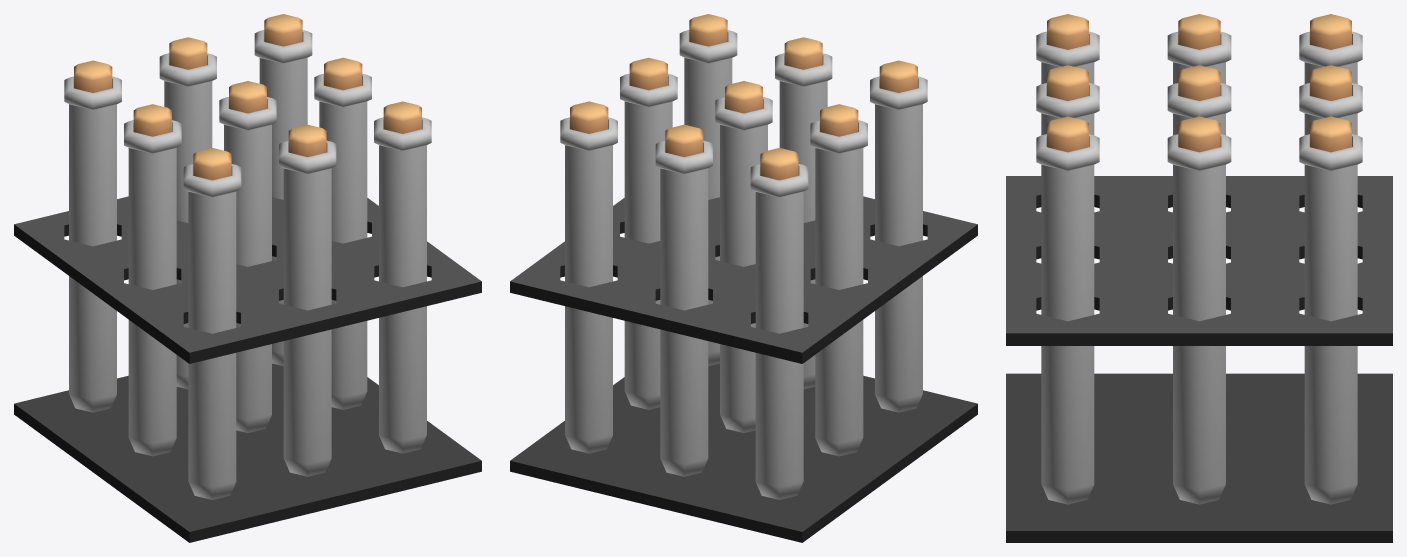
The model's file is CR_sci_Cylinder_002.FBX.
3 views of the same model, side by side, from view 1: azimuth 30°, elevation 25°; view 2: azimuth 150°, elevation 25°; view 3: azimuth 270°, elevation 25° (orthographic). The views are drawn at different scales.
Visible parts, largest first — view 1: CR_sci_Cylinder_002_al, CR_sci_Cylinder_002; view 2: CR_sci_Cylinder_002_al, CR_sci_Cylinder_002; view 3: CR_sci_Cylinder_002, CR_sci_Cylinder_002_al.
Boxes of the visible parts, left/top/right/bottom form: CR_sci_Cylinder_002_al: left=64, top=30, right=431, bottom=499; CR_sci_Cylinder_002: left=14, top=14, right=481, bottom=542; CR_sci_Cylinder_002_al: left=560, top=30, right=927, bottom=499; CR_sci_Cylinder_002: left=510, top=14, right=977, bottom=542; CR_sci_Cylinder_002: left=1006, top=14, right=1392, bottom=542; CR_sci_Cylinder_002_al: left=1036, top=31, right=1362, bottom=504.
Bounding box in the file's own units: 14.3 × 16.58 × 14.86.
